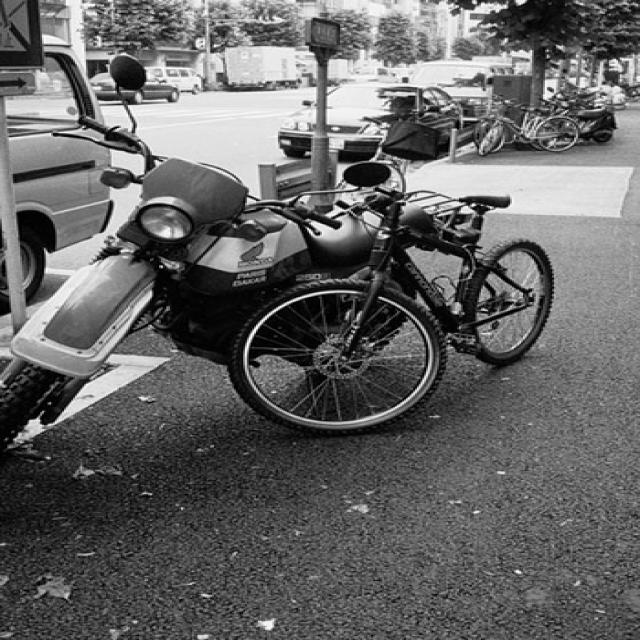motor: (2, 56, 394, 465)
